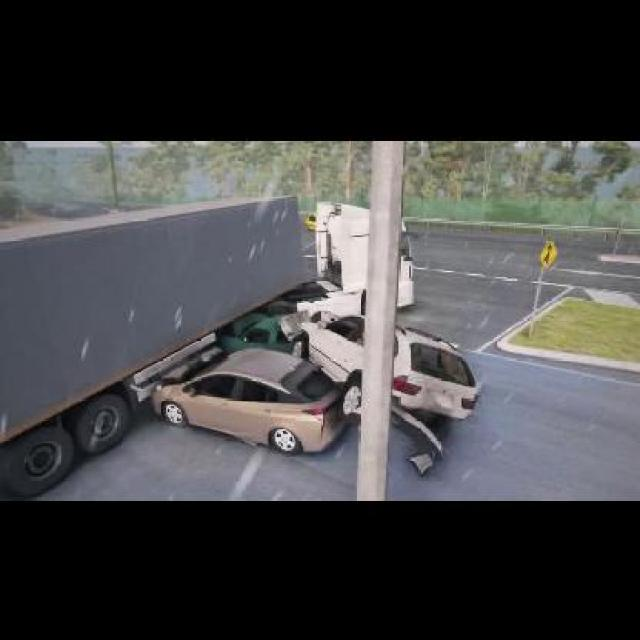accident: (2, 187, 484, 498), (145, 295, 480, 459)
